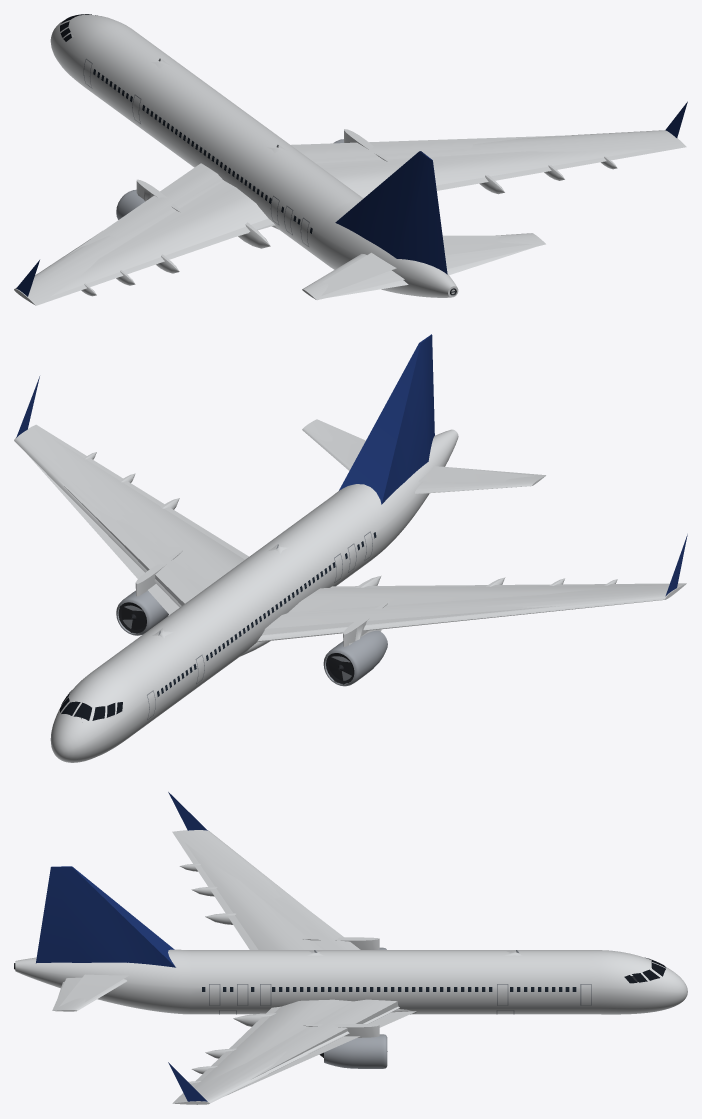
File: lat_heavy.dae
3 views of the same model, one above another, from view 1: azimuth 30°, elevation 25°; view 2: azimuth 150°, elevation 25°; view 3: azimuth 270°, elevation 25° (orthographic). The views are drawn at different scales.
Visible parts, largest first — view 1: lat_heavy150, lat_heavy32, lat_heavy1; view 2: lat_heavy150, lat_heavy32, lat_heavy1; view 3: lat_heavy150, lat_heavy1, lat_heavy32.
Boxes of the visible parts, x1=… form: lat_heavy150: x1=14, y1=14, x2=686, y2=305; lat_heavy32: x1=51, y1=18, x2=653, y2=297; lat_heavy1: x1=16, y1=101, x2=687, y2=296; lat_heavy150: x1=14, y1=419, x2=686, y2=762; lat_heavy32: x1=53, y1=438, x2=656, y2=722; lat_heavy1: x1=16, y1=334, x2=687, y2=645; lat_heavy150: x1=14, y1=830, x2=687, y2=1104; lat_heavy1: x1=36, y1=792, x2=416, y2=1101; lat_heavy32: x1=58, y1=842, x2=645, y2=1089.
Size of the model in its own units: 60.9 by 63.82 by 16.44.
